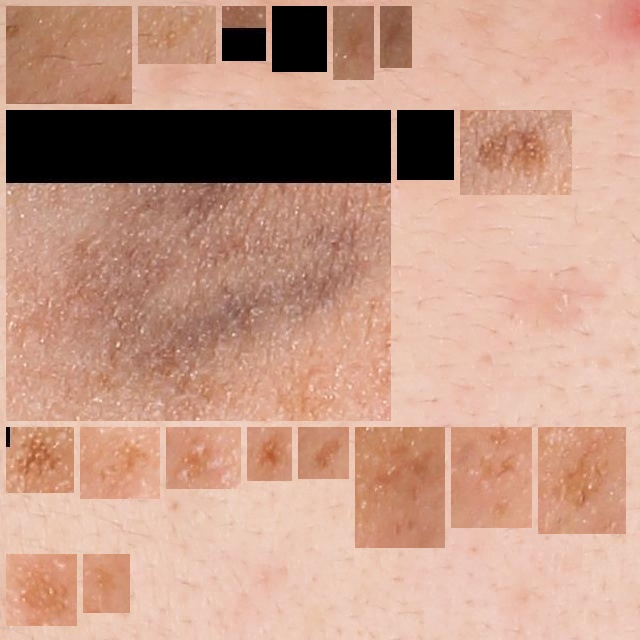melasma: (14, 118, 383, 413), (14, 14, 124, 96), (363, 435, 437, 540), (468, 118, 564, 187), (546, 435, 618, 526), (459, 435, 524, 520), (88, 435, 152, 491), (14, 562, 69, 618), (174, 435, 233, 481), (146, 14, 208, 56), (14, 435, 66, 485), (405, 118, 446, 172), (280, 14, 319, 64), (341, 14, 366, 72), (91, 562, 122, 605), (306, 435, 341, 471), (255, 435, 284, 473), (230, 14, 258, 53), (388, 14, 404, 60)
